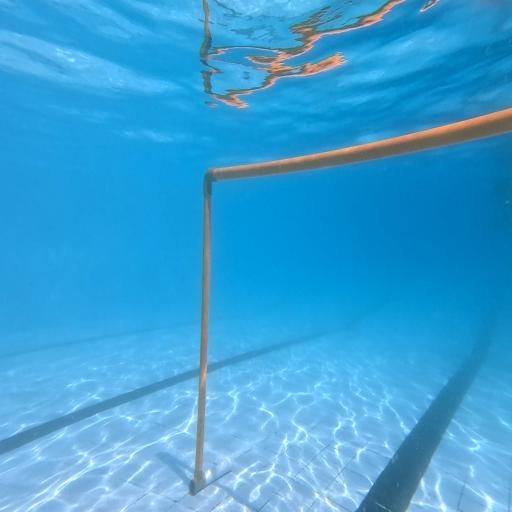gate: (189, 107, 512, 494)
